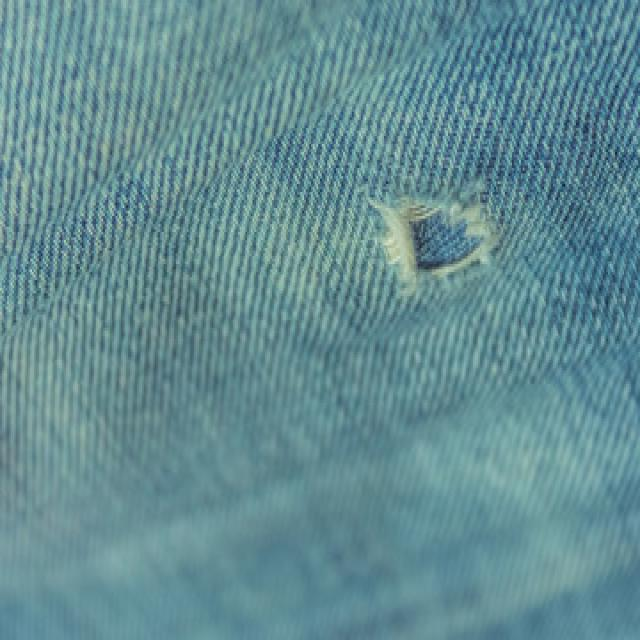Hole: (370, 196, 498, 294)
